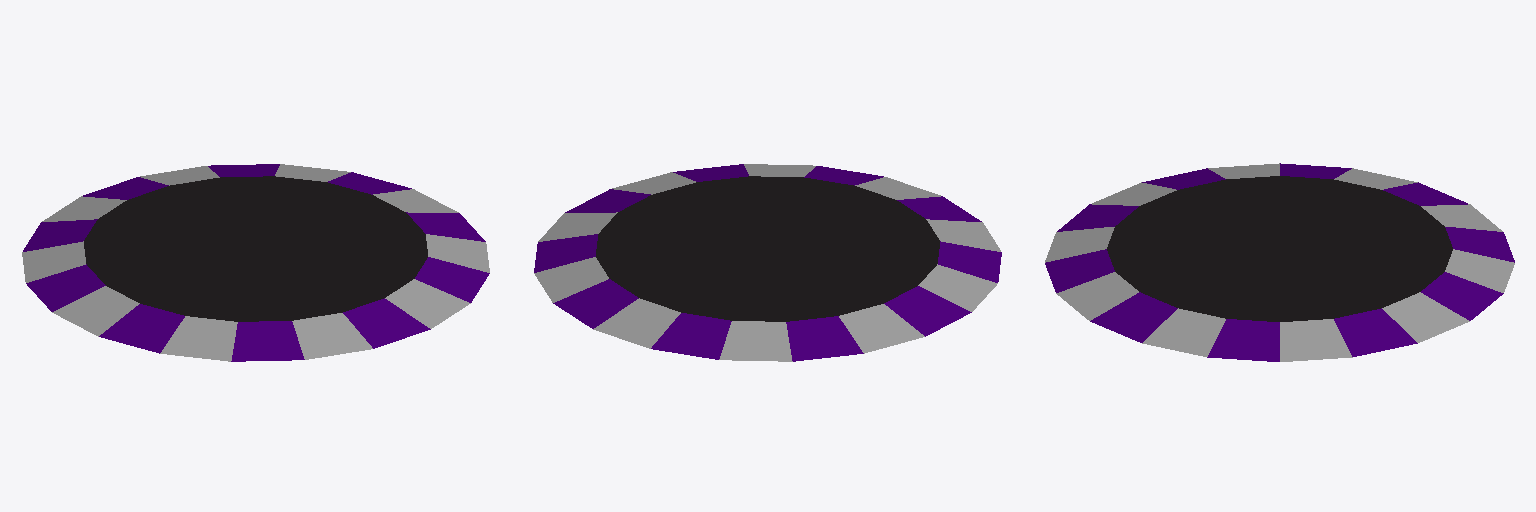
Rendered from Goal.obj.
The picture shows the model from 3 angles: view 1: azimuth 30°, elevation 25°; view 2: azimuth 150°, elevation 25°; view 3: azimuth 270°, elevation 25°; orthographic projection.
Visible parts, largest first — view 1: Cylinder; view 2: Cylinder; view 3: Cylinder.
Boxes of the visible parts, box(x1,y1,x2,y2) form: Cylinder: box(22, 164, 489, 361); Cylinder: box(534, 164, 1001, 361); Cylinder: box(1045, 163, 1514, 361).
Bounding box in the file's own units: 4.45 × 0.1438 × 4.45.